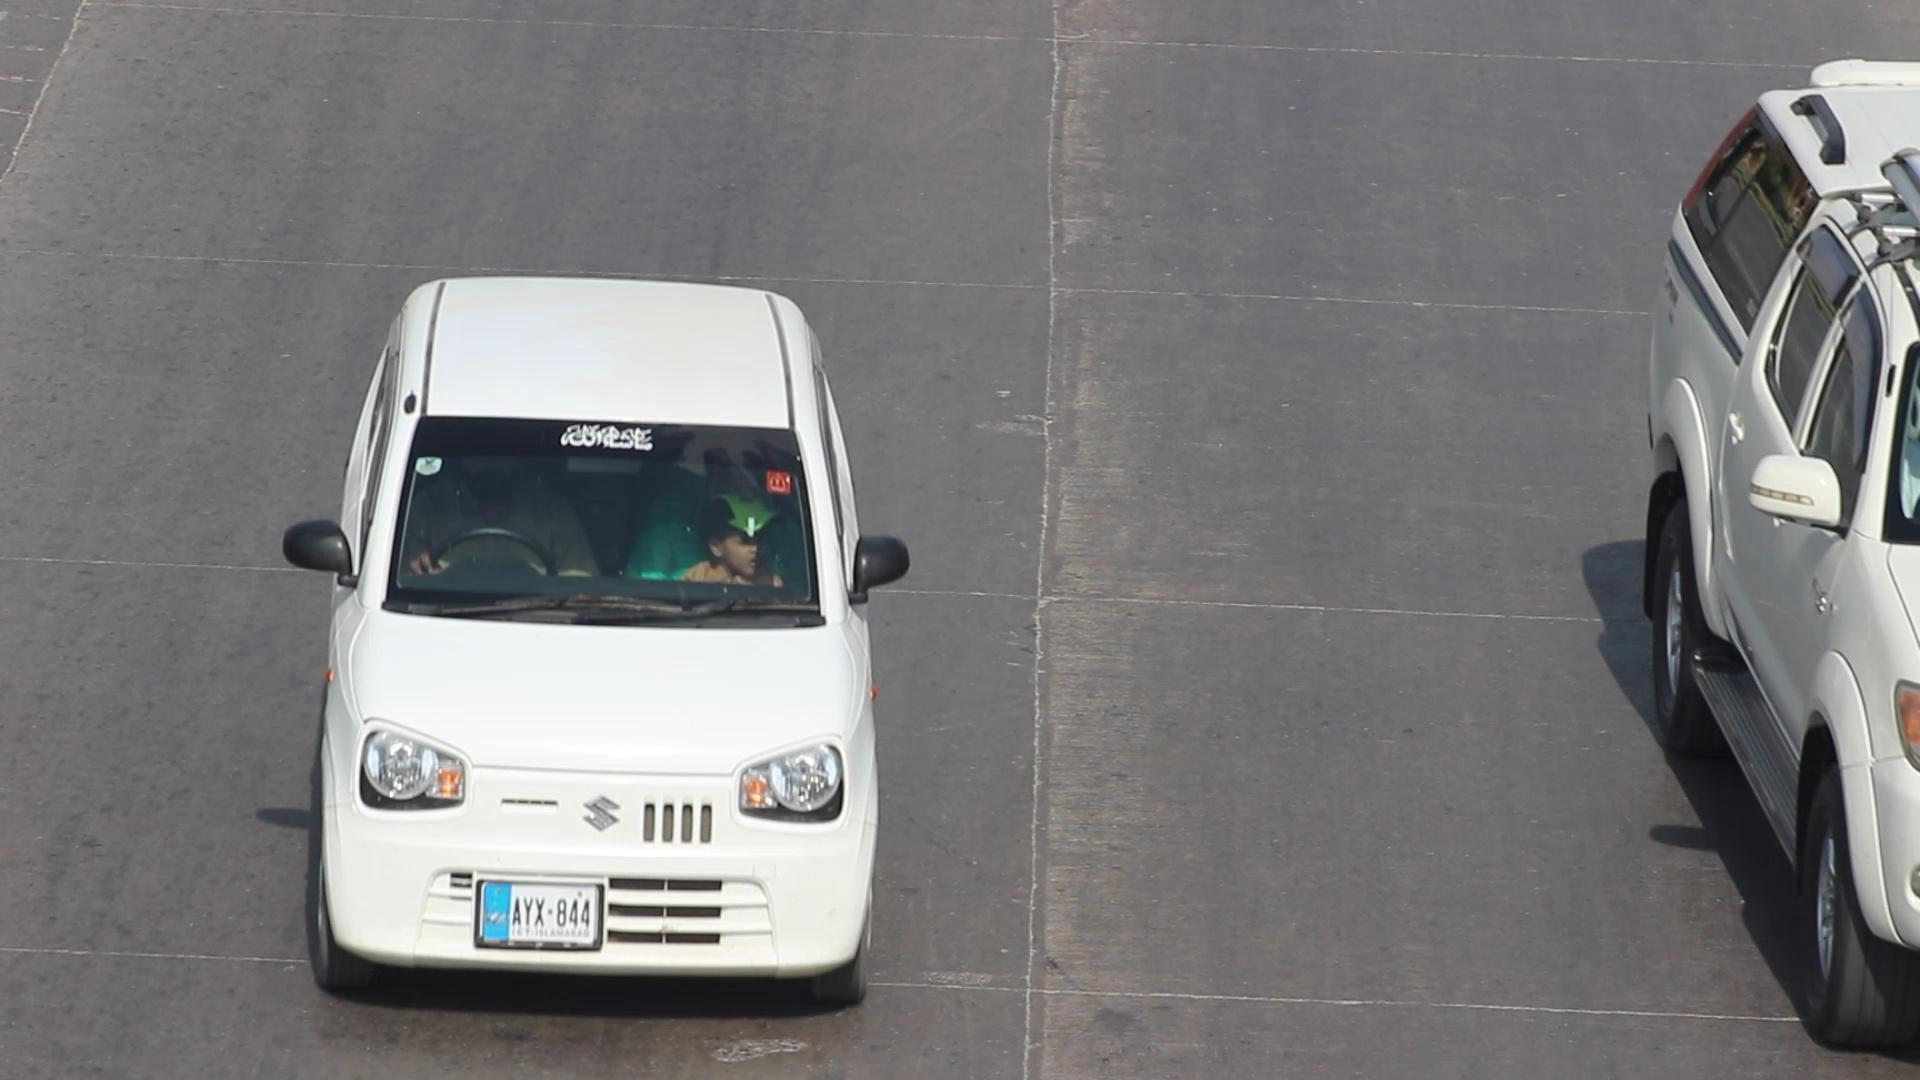windshield: (364, 397, 827, 637)
